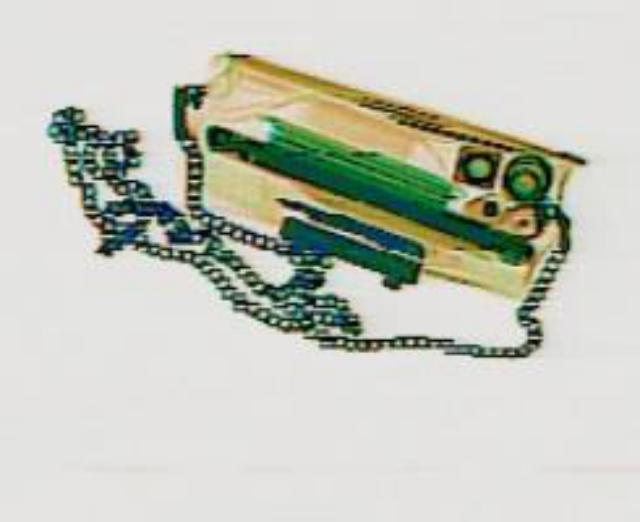Knife: (266, 185, 427, 256)
